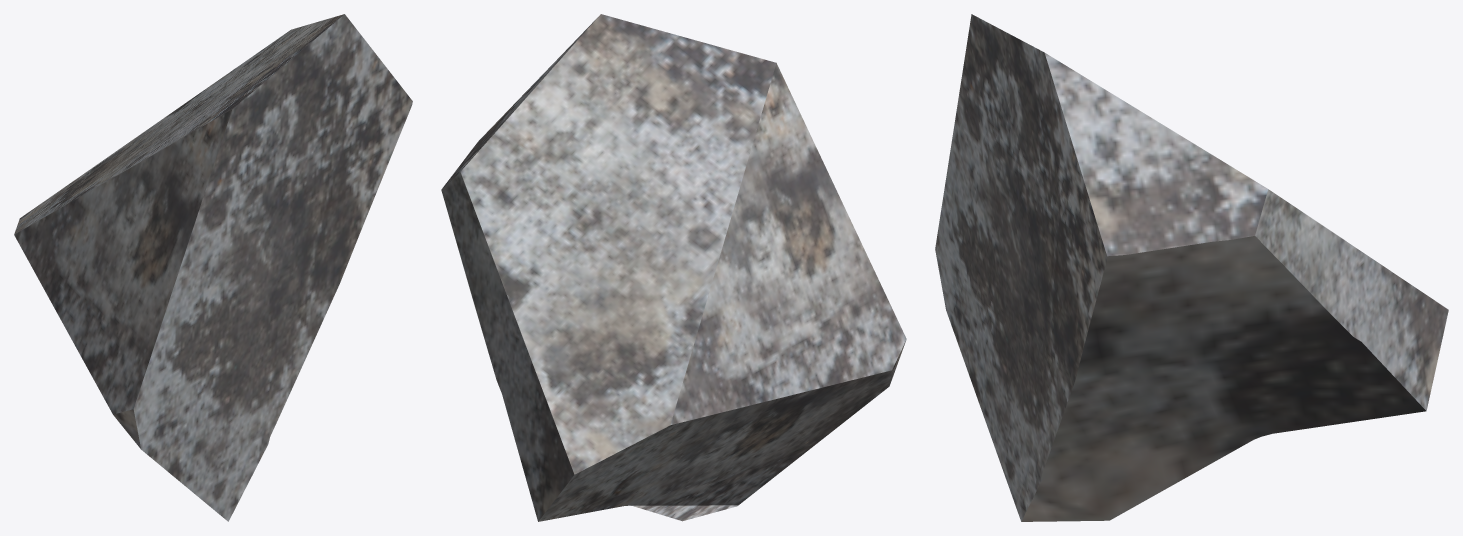
File: Asteroid_Large_001_02_008_03_034.fbx
3 views of the same model, side by side, from view 1: azimuth 30°, elevation 25°; view 2: azimuth 150°, elevation 25°; view 3: azimuth 270°, elevation 25° (orthographic). The views are drawn at different scales.
Parts seen in each view (by area): view 1: Asteroid_Large_001_02_008_03_034; view 2: Asteroid_Large_001_02_008_03_034; view 3: Asteroid_Large_001_02_008_03_034.
Part boxes in pixels (left/top/right/bottom): Asteroid_Large_001_02_008_03_034: left=14, top=14, right=412, bottom=521; Asteroid_Large_001_02_008_03_034: left=441, top=14, right=906, bottom=521; Asteroid_Large_001_02_008_03_034: left=935, top=14, right=1448, bottom=521.
Size of the model in its own units: 6.45 by 8.11 by 6.99.
